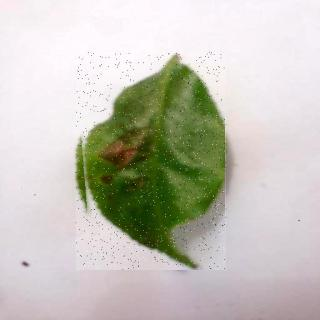Algal Leaf: (77, 53, 228, 271)
